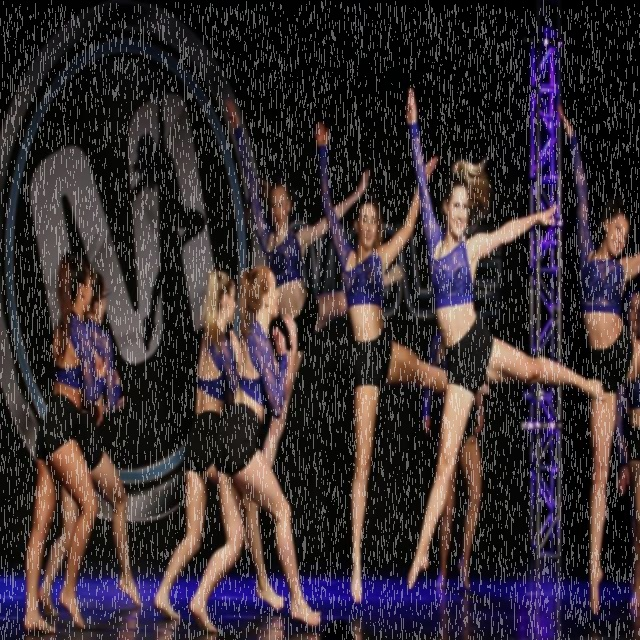pessoa: (403, 85, 609, 596), (312, 117, 492, 610), (222, 95, 406, 558), (188, 262, 324, 636), (150, 263, 288, 626), (554, 102, 640, 622), (37, 266, 143, 618), (22, 247, 111, 637), (118, 79, 214, 361), (422, 332, 482, 592), (612, 298, 640, 609), (628, 286, 640, 342)
